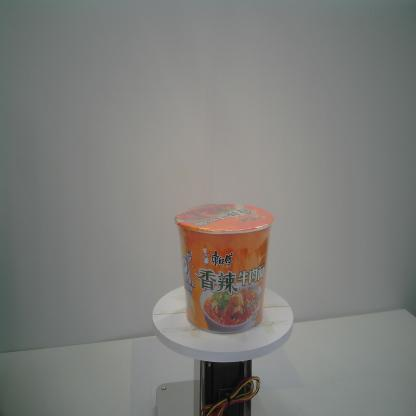Instant Noodles: (174, 201, 274, 333)
